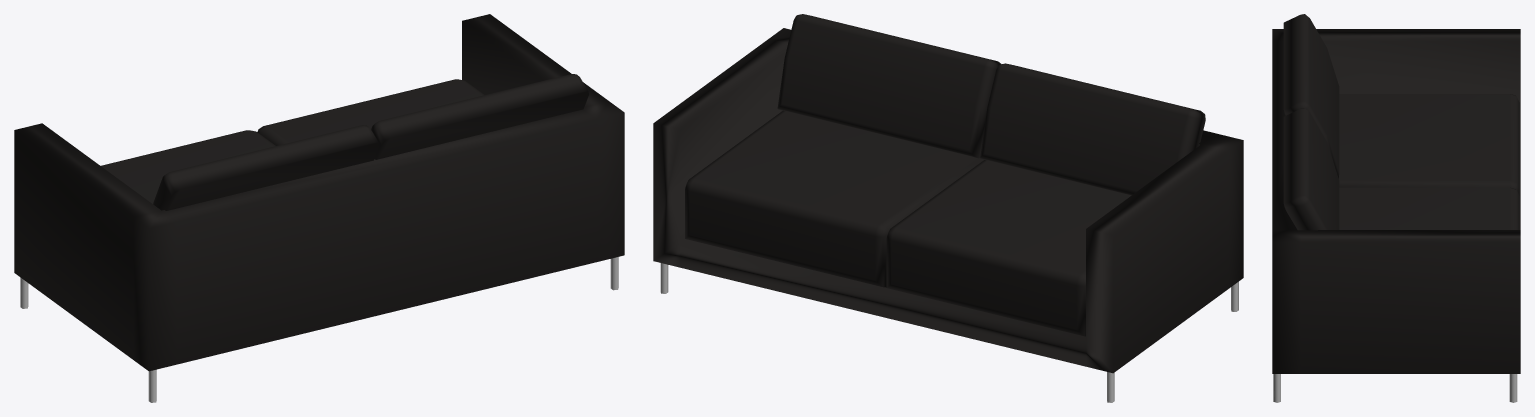
Rendered from sofaA.fbx.
3 renders of one model, left to right at view 1: azimuth 30°, elevation 25°; view 2: azimuth 150°, elevation 25°; view 3: azimuth 270°, elevation 25°, orthographic. The views are drawn at different scales.
Parts seen in each view (by area): view 1: sofaA; view 2: sofaA; view 3: sofaA.
Boxes of the visible parts, left/top/right/bottom form: sofaA: left=14, top=14, right=624, bottom=402; sofaA: left=653, top=14, right=1243, bottom=402; sofaA: left=1272, top=14, right=1520, bottom=402.
Size of the model in its own units: 1.36 by 0.5746 by 0.6678.
